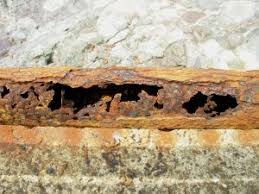rust: (11, 80, 253, 119)
